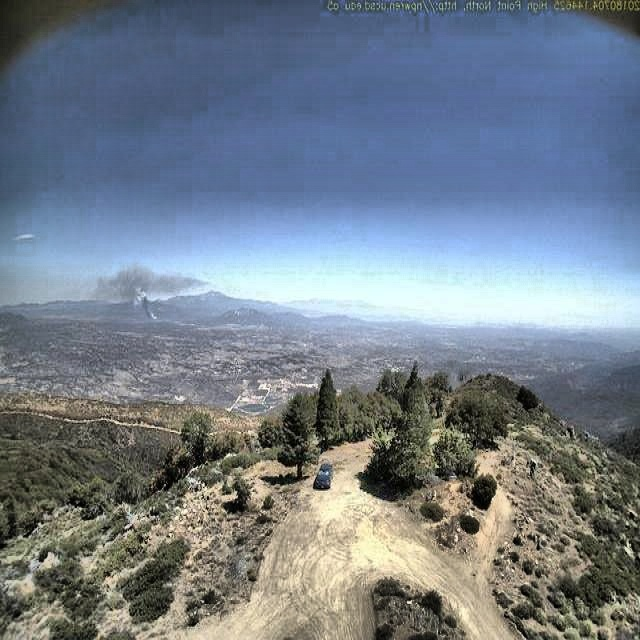smoke: (93, 264, 210, 325)
